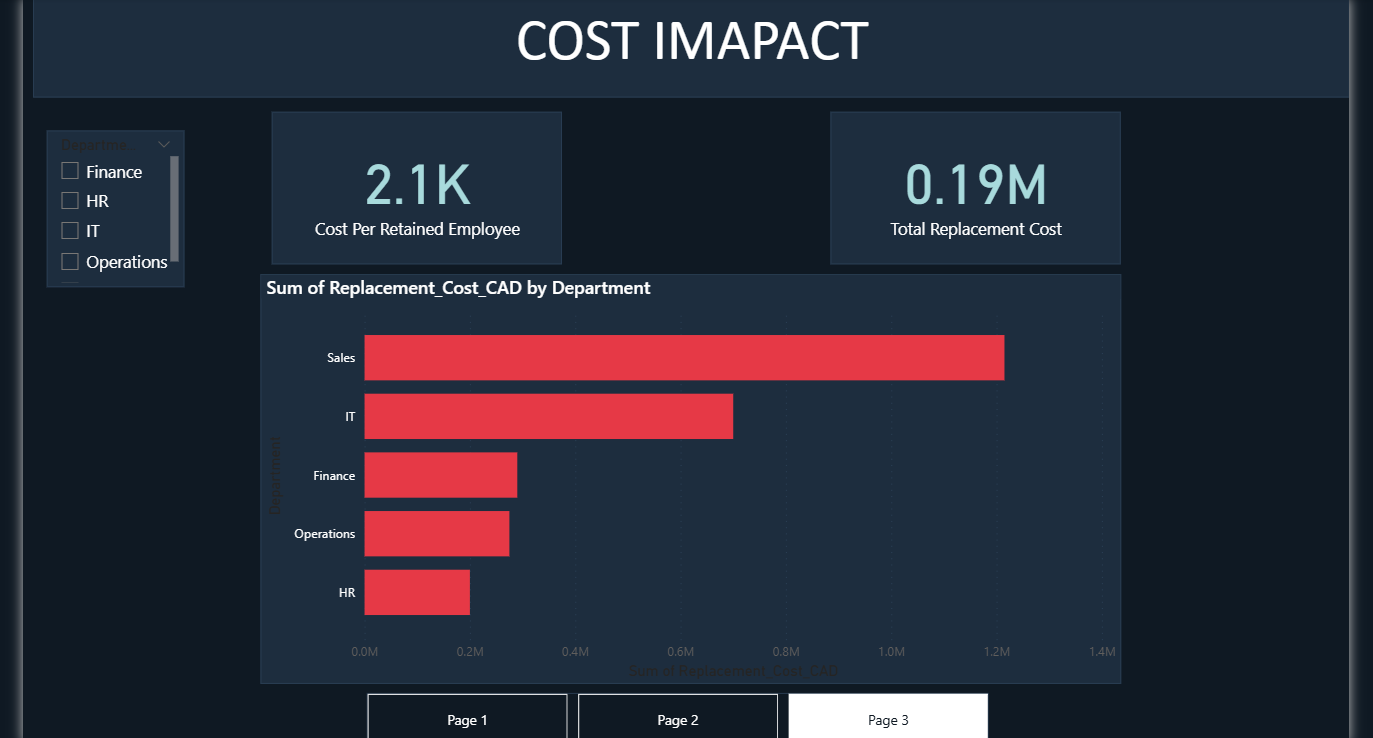

The page's visual inventory and layout, read from the dashboard file:
{"tool":"powerbi","page":{"name":"Page 3","canvas":[1280,720],"ordinal":2},"visuals":[{"type":"card","fields":{"Values":["_Measures.Cost Per Retained Employee"]},"box":[240.1,109.8,279.9,146.8],"z":0},{"type":"card","fields":{"Values":["_Measures.Total Replacement Cost"]},"box":[779.4,109.8,279.9,146.8],"z":1000},{"type":"barChart","fields":{"Category":["HR_Attrition_Canada csv.Department"],"Y":["Sum(HR_Attrition_Canada csv.Replacement_Cost_CAD)"]},"box":[229.2,266.2,830.2,395.2],"z":2000},{"type":"slicer","fields":{"Values":["HR_Attrition_Canada csv.Department"]},"box":[23.3,127.6,133.1,150.9],"z":3000},{"type":"textbox","box":[9.6,0,1270.7,96.1],"z":4000},{"type":"pageNavigator","box":[332.1,670.6,599.7,49.4],"z":4001}]}

Visuals, with their boxes on the page's 1280x720 design canvas (x1, y1, x2, y2). These are canvas units, not pixel positions in the 1373x738 screenshot, which may show the page scaled, cropped or inside an application window:
card - _Measures.Cost Per Retained Employee: <box>240,110,520,257</box>
card - _Measures.Total Replacement Cost: <box>779,110,1059,257</box>
barChart - HR_Attrition_Canada csv.Department x Sum(HR_Attrition_Canada csv.Replacement_Cost_CAD): <box>229,266,1059,661</box>
slicer - HR_Attrition_Canada csv.Department: <box>23,128,156,278</box>
textbox: <box>10,0,1280,96</box>
pageNavigator: <box>332,671,932,720</box>
